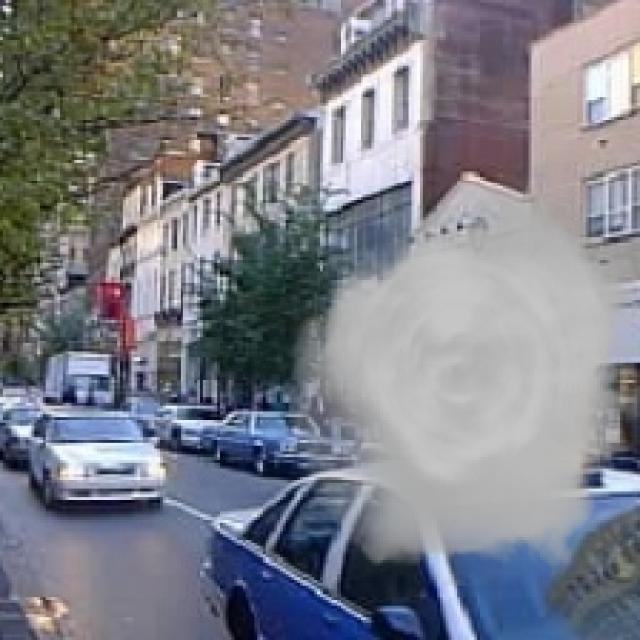Smoke: (288, 174, 638, 589)
